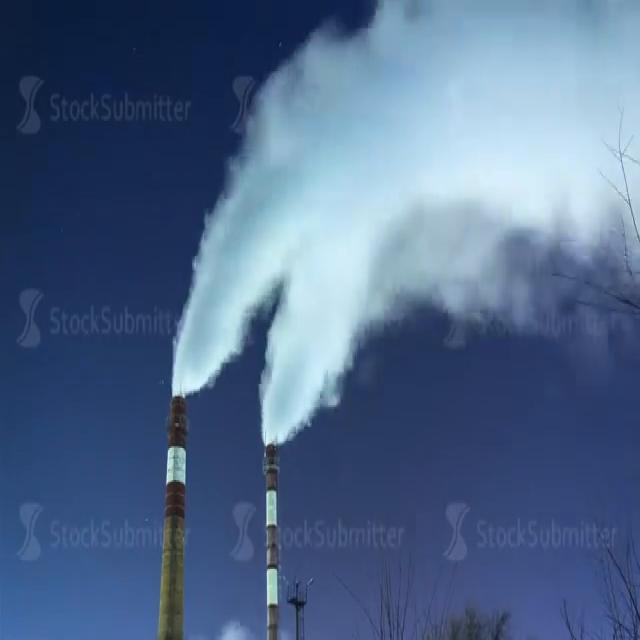smoke: (171, 0, 640, 448)
